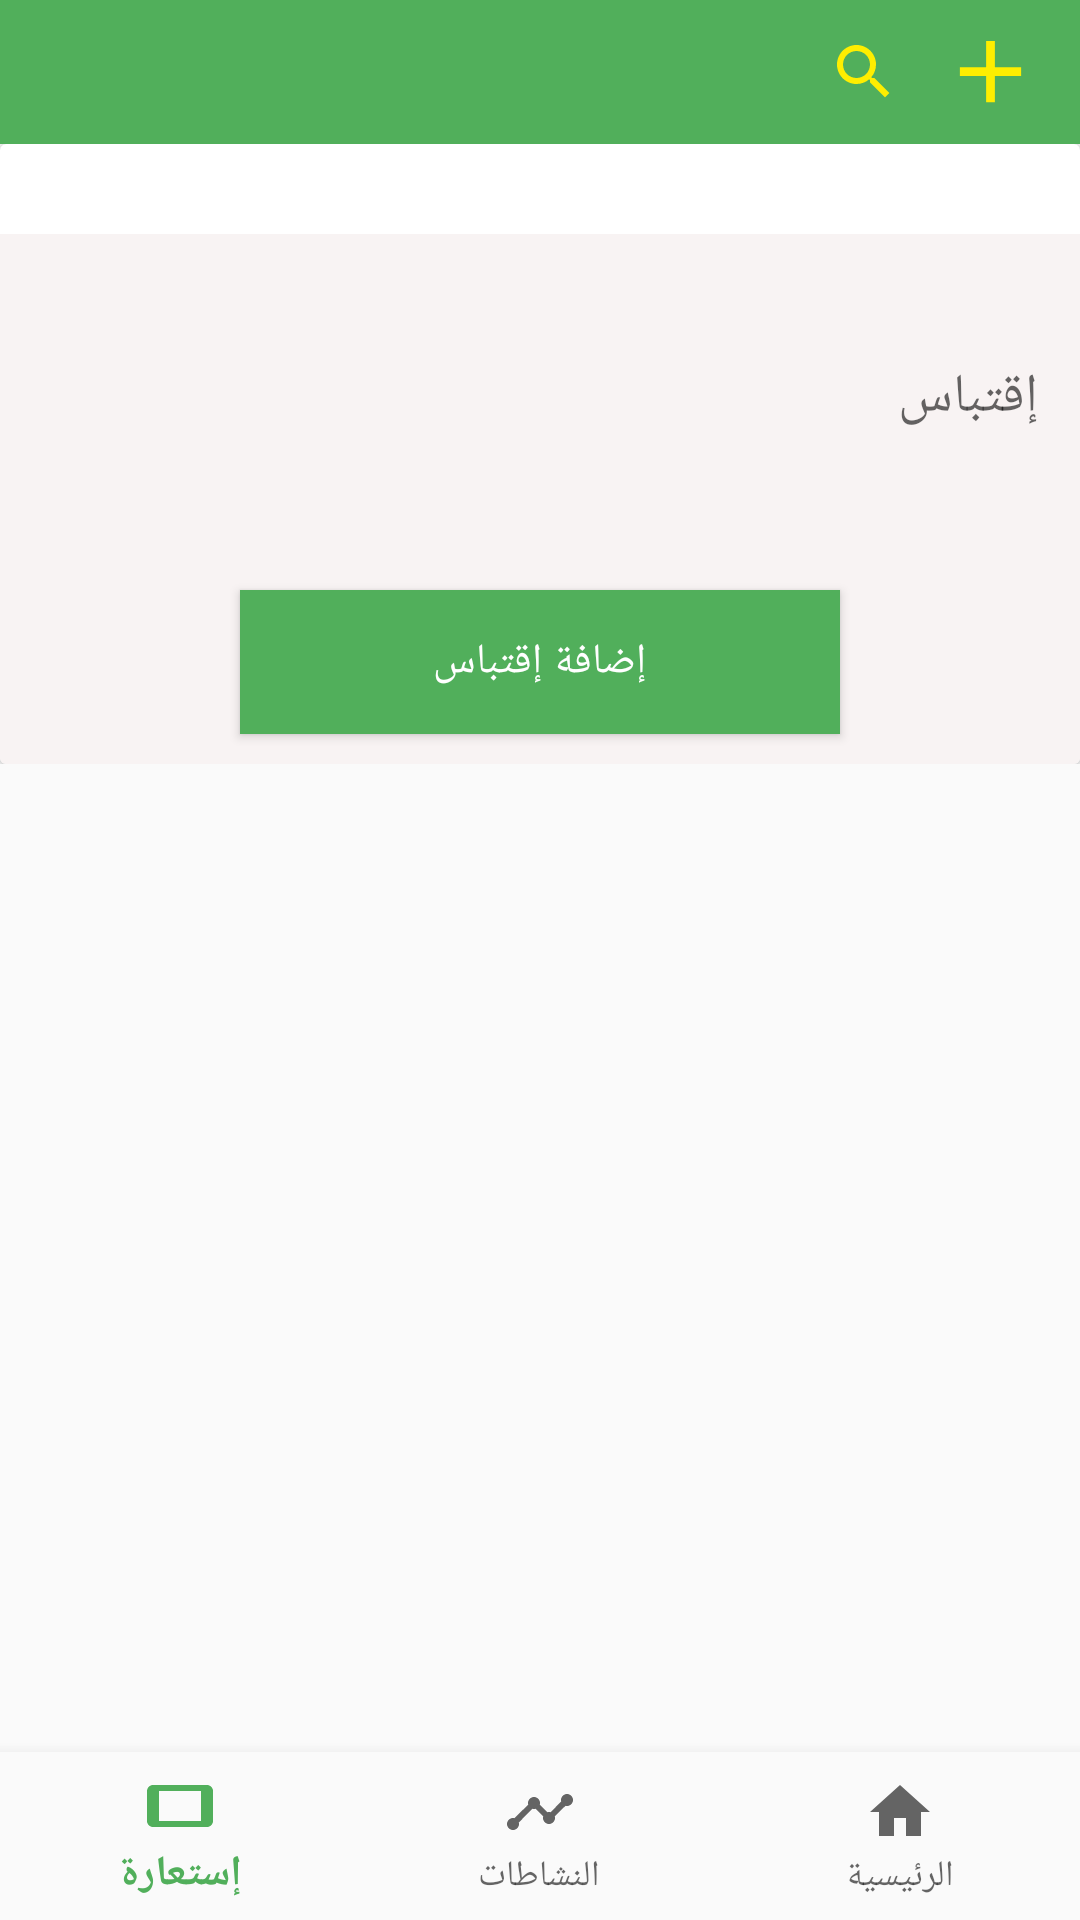

Icon bounding boxes for this 1080 x 1920 phone screenshot, format (x1, y1, x2, y2):
add: (960, 41, 1021, 103)
search: (837, 45, 889, 97)
